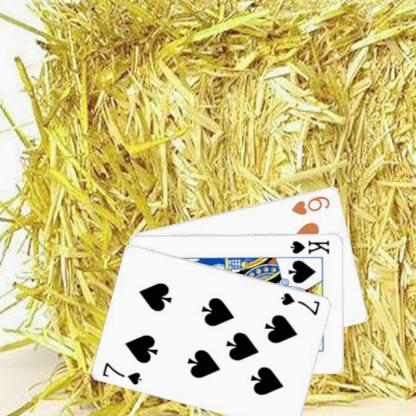6H: (289, 193, 331, 216)
7S: (278, 289, 323, 316), (100, 360, 143, 387)
KS: (288, 237, 332, 255)
